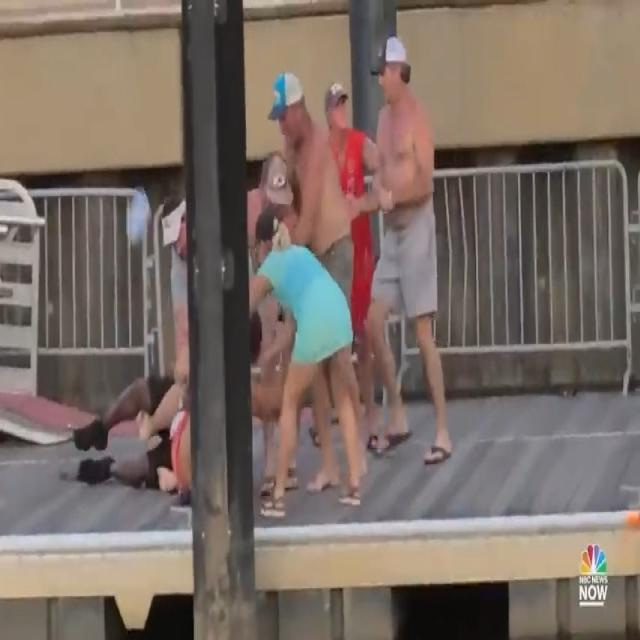fight: (40, 4, 467, 516)
